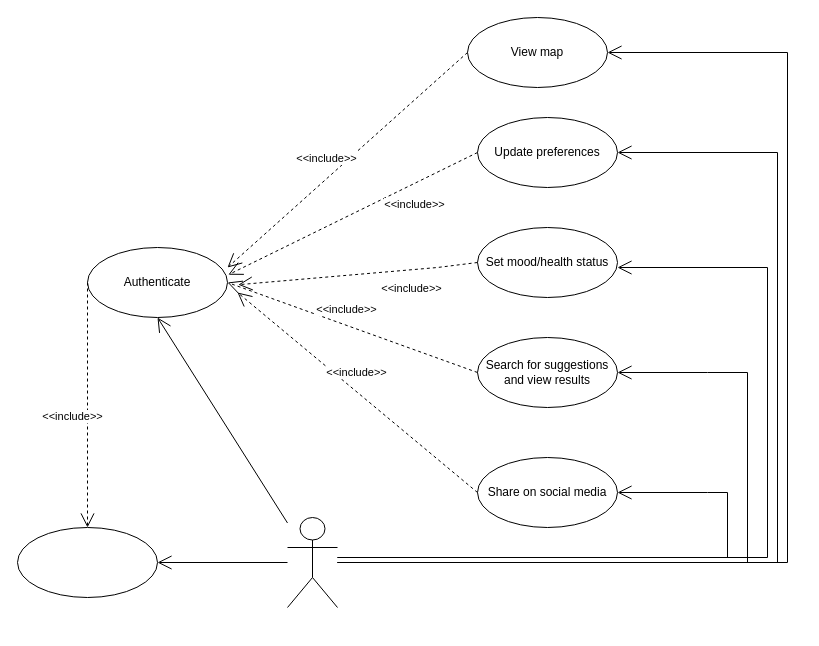
Some shapes in this 819 by 646 pixel diagram are drawn without their labels. Each missing label, with the centre of its shape:
Client: the point at 312,562
Register: the point at 87,562
